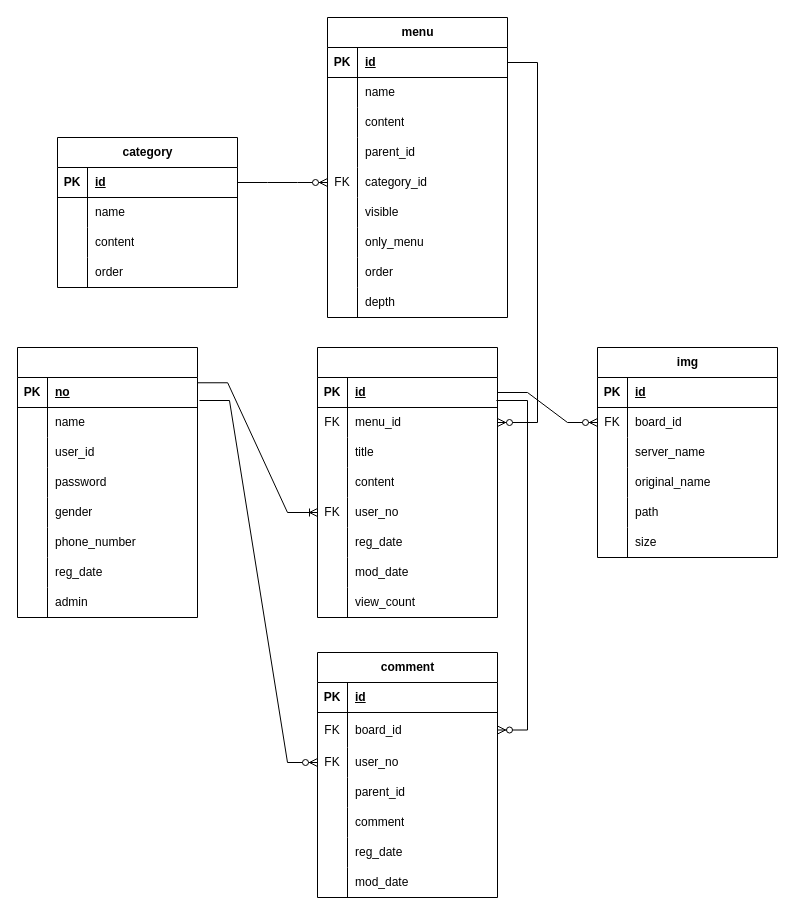
This 795x915 diagram has some shape labels left out. Here are the shapes that lost their labels. From the top down, the box of each, then its label:
(16, 346, 198, 618): board_user
(316, 346, 498, 618): board
